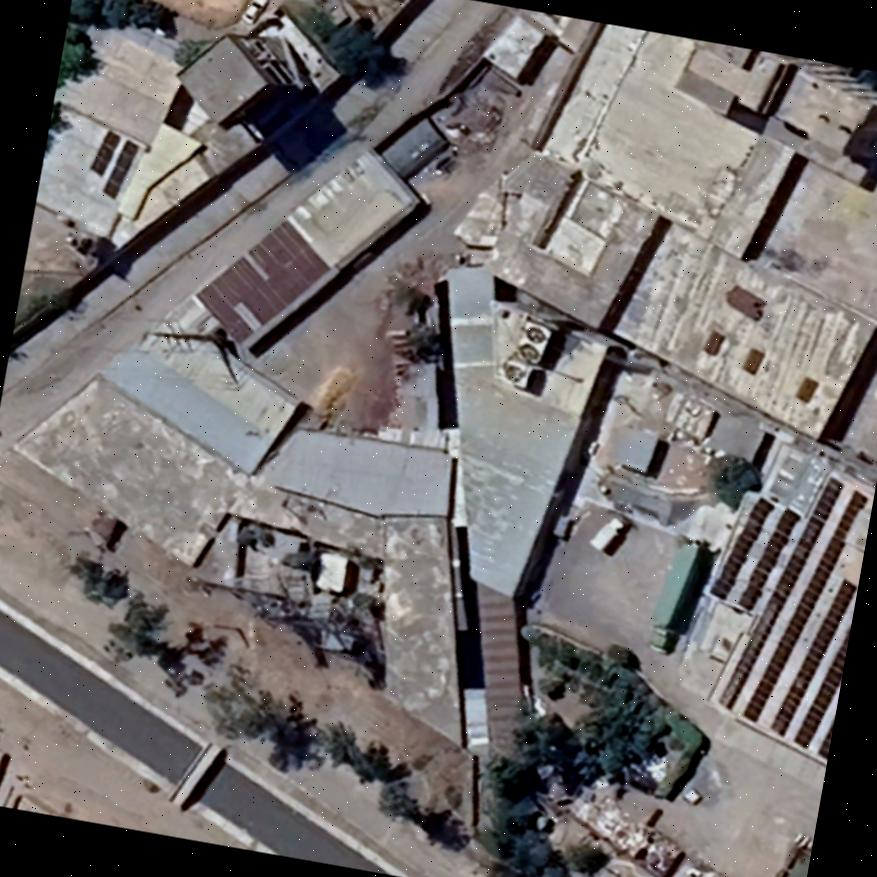Solarpanel: (716, 474, 845, 712), (741, 488, 869, 724), (767, 577, 858, 741), (793, 626, 850, 752), (736, 507, 802, 615), (707, 496, 774, 602), (101, 137, 140, 200), (87, 130, 121, 179), (816, 716, 833, 765)
